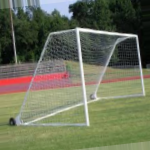goals: (20, 26, 146, 129)
